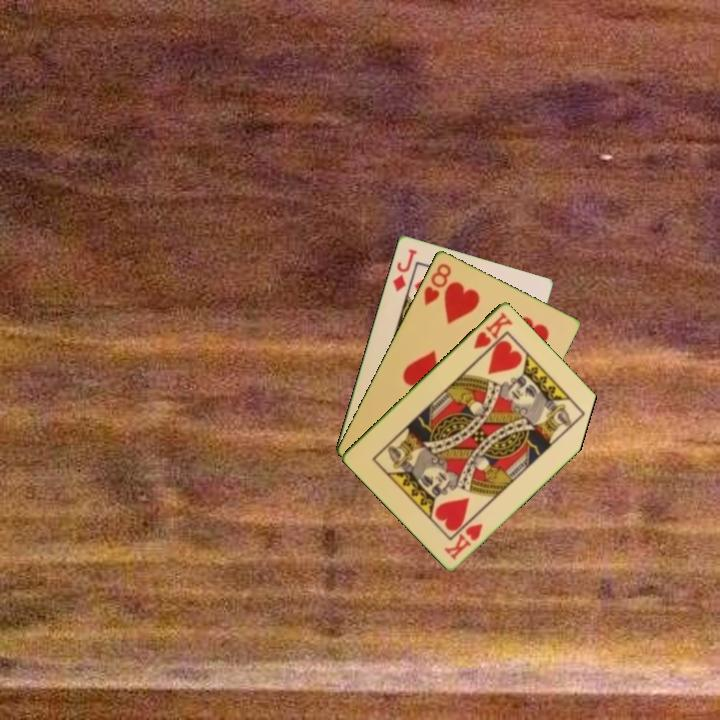8h: (420, 259, 454, 308)
Jd: (389, 245, 419, 294)
Kh: (440, 519, 486, 563), (470, 308, 515, 352)
